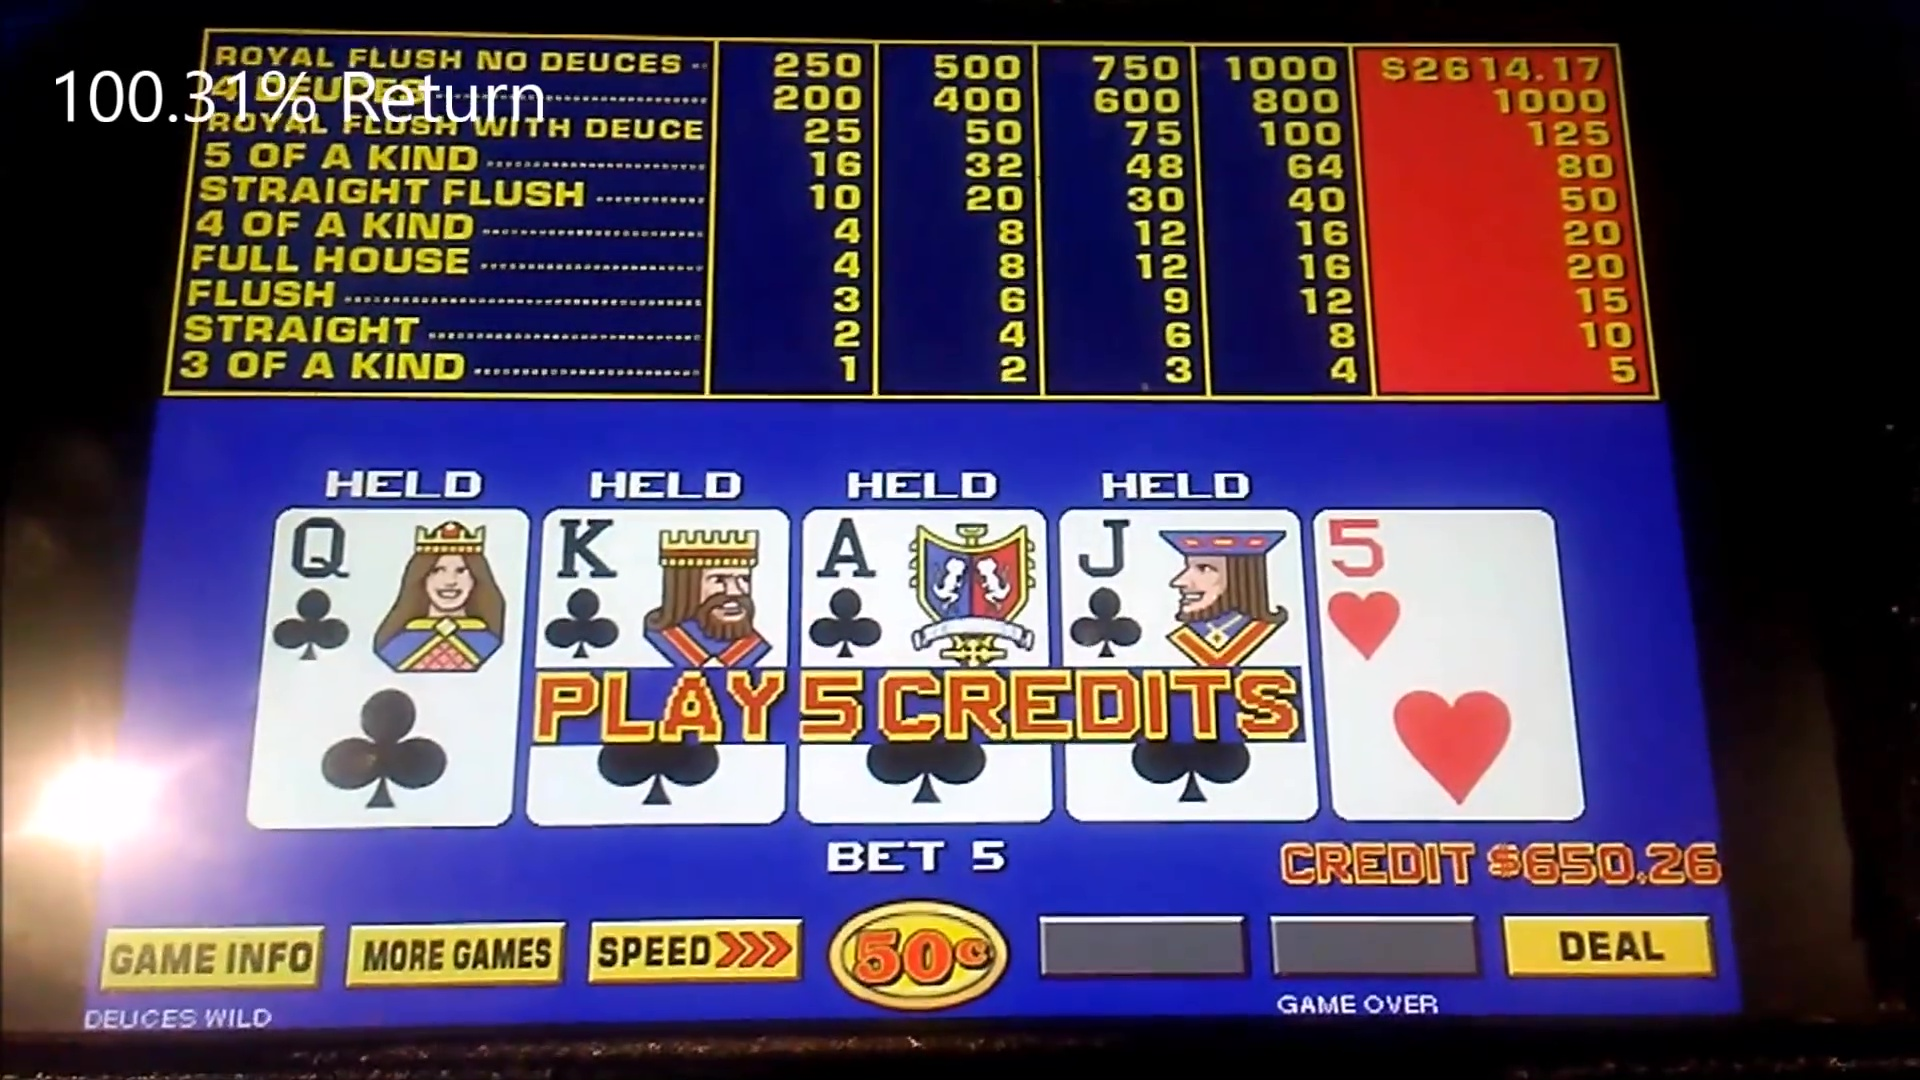5H: (1327, 516, 1547, 665)
AC: (804, 514, 1043, 663)
JC: (1064, 514, 1298, 669)
KC: (545, 508, 785, 666)
QC: (277, 512, 522, 670)
